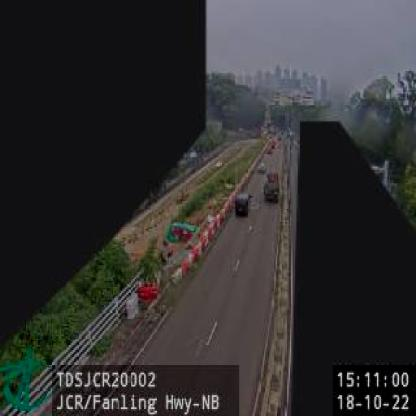Car: (235, 192, 251, 216), (257, 160, 267, 173)
Truck: (264, 171, 283, 202)
